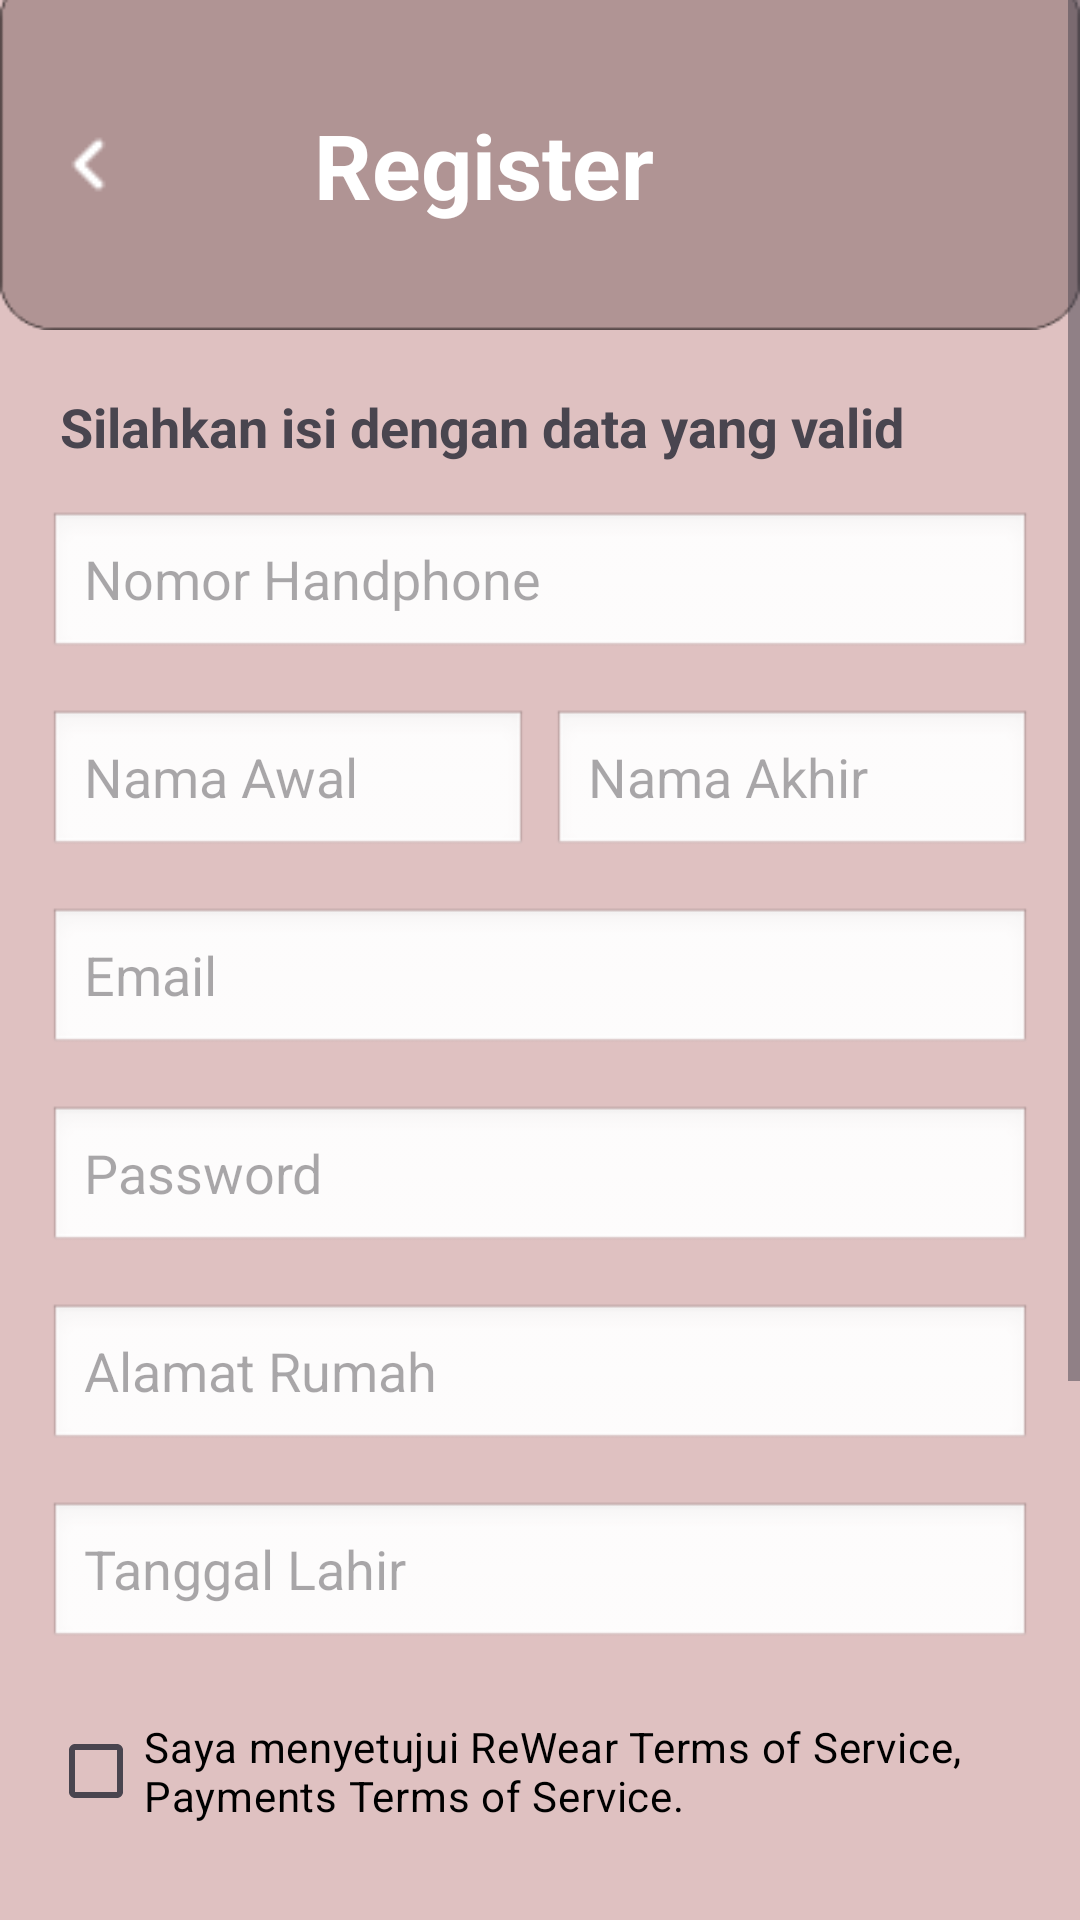

Screen size 1080px x 1920px. Icon name, then its center in pixels as point (x, y):
panahkiri: point (88, 164)
